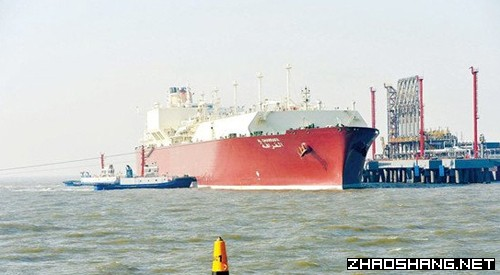Cargoship: (132, 62, 382, 190)
otherboat: (97, 162, 202, 190), (56, 154, 136, 186)
